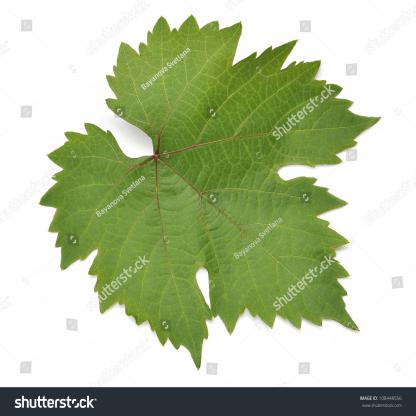grape leaf: (28, 16, 377, 355)
